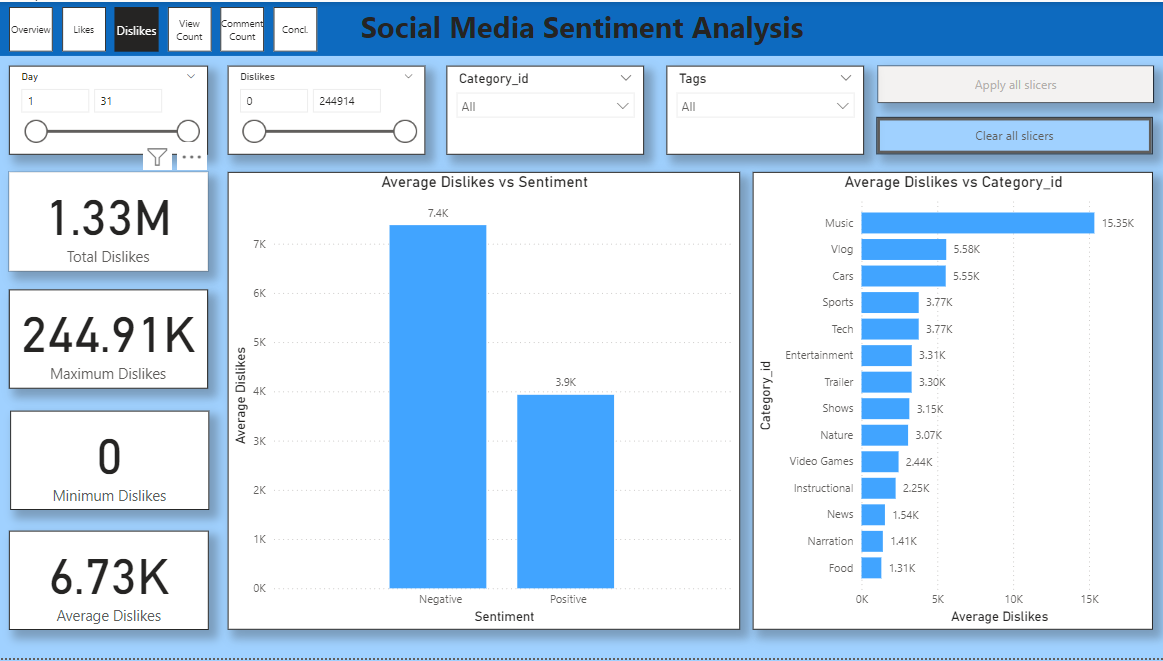

The dashboard page shown, as its layout file describes it:
{"tool":"powerbi","page":{"name":"Dislikes","canvas":[1280,720],"ordinal":2},"visuals":[{"type":"shape","box":[0,0,1280.3,59],"z":0},{"type":"textbox","box":[0,0,1280.3,59],"z":1000},{"type":"slicer","fields":{"Values":["gold_df (2).Published_at.Variation.Date Hierarchy.Day"]},"box":[11,70,218.2,97.4],"z":2000},{"type":"card","fields":{"Values":["Avg(gold_df (2).Dislikes)"]},"box":[11,580.4,219.6,108.4],"z":3000},{"type":"card","fields":{"Values":["Sum(gold_df (2).Dislikes)"]},"box":[11,186.6,218.2,108.4],"z":4000},{"type":"card","fields":{"Values":["Min(gold_df (2).Dislikes)"]},"box":[12.3,448.7,218.2,108.4],"z":5000},{"type":"card","fields":{"Values":["Max(gold_df (2).Dislikes)"]},"box":[11,315.6,218.2,108.4],"z":6000},{"type":"pageNavigator","box":[11,5.5,341.7,49.4],"z":7000},{"type":"slicer","fields":{"Values":["gold_df (2).Dislikes"]},"box":[251.1,70,216.8,97.4],"z":8000},{"type":"clusteredColumnChart","title":"Average Dislikes vs Sentiment","fields":{"Category":["gold_df (2).Sentiment"],"Y":["Avg(gold_df (2).Dislikes)"]},"box":[251.1,186.6,562.6,502.2],"z":9000},{"type":"clusteredBarChart","title":"Average Dislikes vs Category_id","fields":{"Y":["Avg(gold_df (2).Dislikes)"],"Category":["gold_df (2).Category_id"]},"box":[827.4,186.6,439.1,502.2],"z":10000},{"type":"actionButton","box":[964.7,70,303.3,41.2],"z":11000},{"type":"actionButton","box":[963.3,126.2,303.3,41.2],"z":12000},{"type":"slicer","fields":{"Values":["gold_df (2).Category_id"]},"box":[491.3,70,216.8,97.4],"z":13000},{"type":"slicer","fields":{"Values":["gold_df (2).Tags"]},"box":[732.8,70,216.8,97.4],"z":14000}]}

Visuals, with their boxes on the page's 1280x720 design canvas (x1, y1, x2, y2). These are canvas units, not pixel positions in the 1163x661 screenshot, which may show the page scaled, cropped or inside an application window:
shape: box=[0, 0, 1280, 59]
textbox: box=[0, 0, 1280, 59]
slicer - gold_df (2).Published_at.Variation.Date Hierarchy.Day: box=[11, 70, 229, 167]
card - Avg(gold_df (2).Dislikes): box=[11, 580, 231, 689]
card - Sum(gold_df (2).Dislikes): box=[11, 187, 229, 295]
card - Min(gold_df (2).Dislikes): box=[12, 449, 230, 557]
card - Max(gold_df (2).Dislikes): box=[11, 316, 229, 424]
pageNavigator: box=[11, 6, 353, 55]
slicer - gold_df (2).Dislikes: box=[251, 70, 468, 167]
"Average Dislikes vs Sentiment" clusteredColumnChart: box=[251, 187, 814, 689]
"Average Dislikes vs Category_id" clusteredBarChart: box=[827, 187, 1266, 689]
actionButton: box=[965, 70, 1268, 111]
actionButton: box=[963, 126, 1267, 167]
slicer - gold_df (2).Category_id: box=[491, 70, 708, 167]
slicer - gold_df (2).Tags: box=[733, 70, 950, 167]
